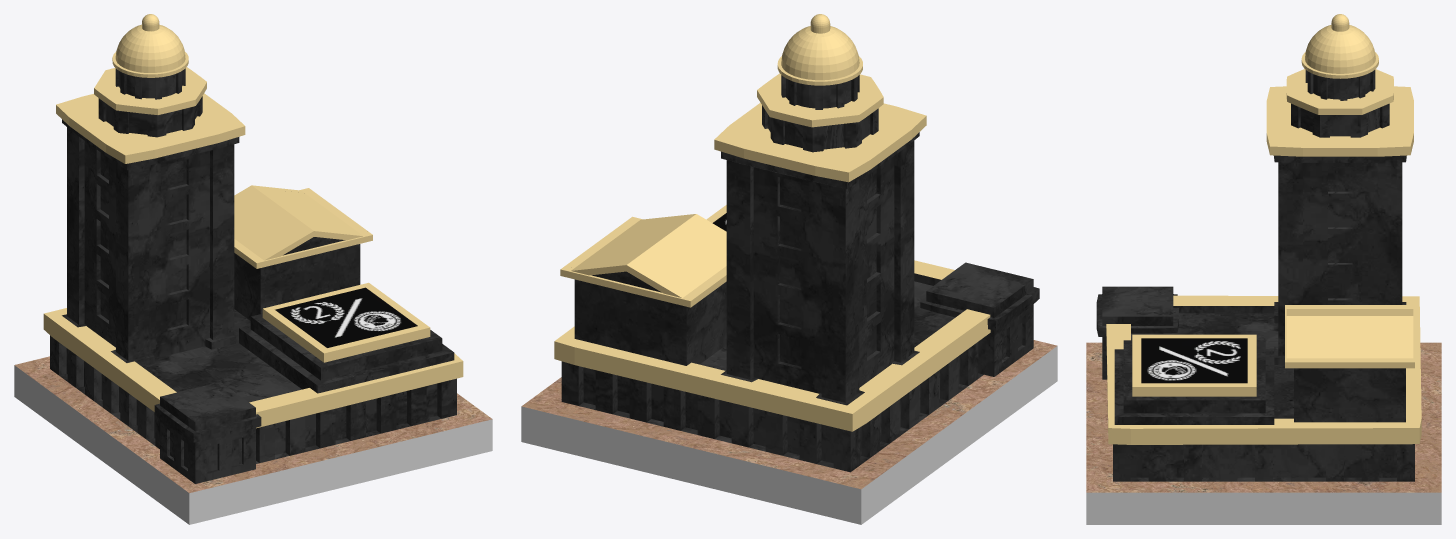
Rendered from buildingFaro.glb.
3 renders of one model, left to right at view 1: azimuth 30°, elevation 25°; view 2: azimuth 150°, elevation 25°; view 3: azimuth 270°, elevation 25°, orthographic. The views are drawn at different scales.
Parts seen in each view (by area): view 1: Faro; view 2: Faro; view 3: Faro.
Part boxes in pixels (left/top/right/bottom): Faro: left=14, top=14, right=492, bottom=524; Faro: left=521, top=14, right=1057, bottom=524; Faro: left=1086, top=14, right=1441, bottom=524.
Size of the model in its own units: 2 by 2.5 by 2.
Materials: 5 (3 with a texture image).
